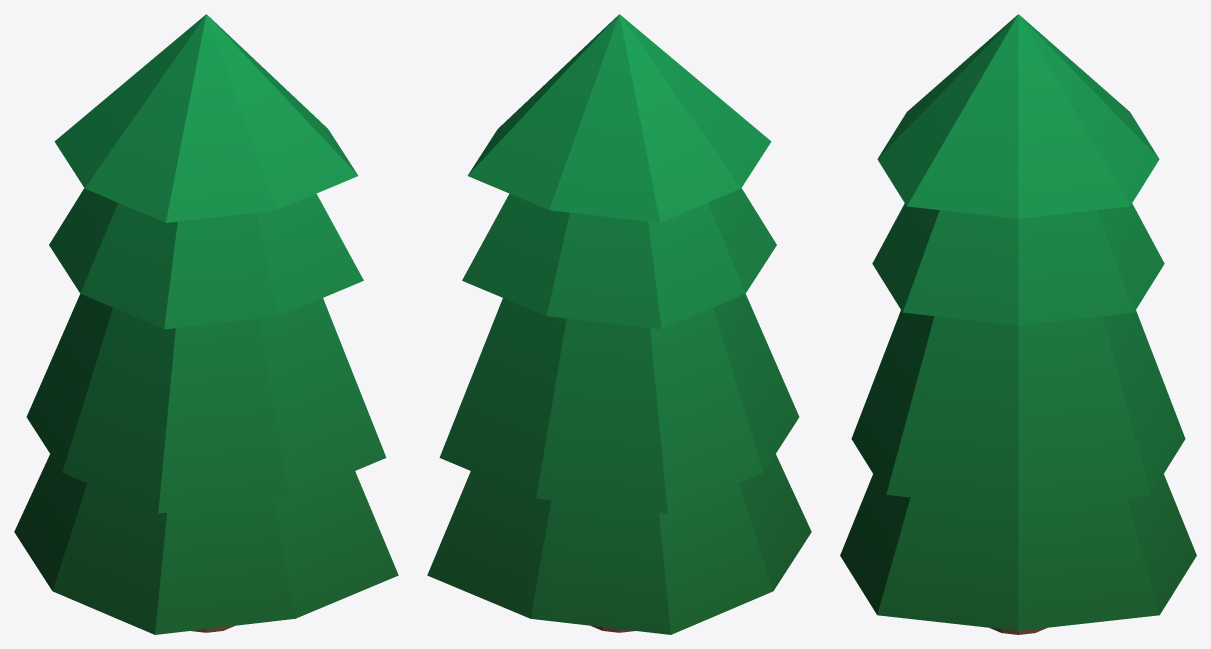
The model's file is Tree_22_gradient_green_vc.fbx.
3 renders of one model, left to right at view 1: azimuth 30°, elevation 25°; view 2: azimuth 150°, elevation 25°; view 3: azimuth 270°, elevation 25°, orthographic.
Parts seen in each view (by area): view 1: Tree_22_gradient_green_vc; view 2: Tree_22_gradient_green_vc; view 3: Tree_22_gradient_green_vc.
Part boxes in pixels (x1=…): Tree_22_gradient_green_vc: x1=14, y1=14, x2=398, y2=634; Tree_22_gradient_green_vc: x1=427, y1=14, x2=811, y2=634; Tree_22_gradient_green_vc: x1=840, y1=14, x2=1196, y2=634.
Size of the model in its own units: 82.75 by 155 by 82.75.
